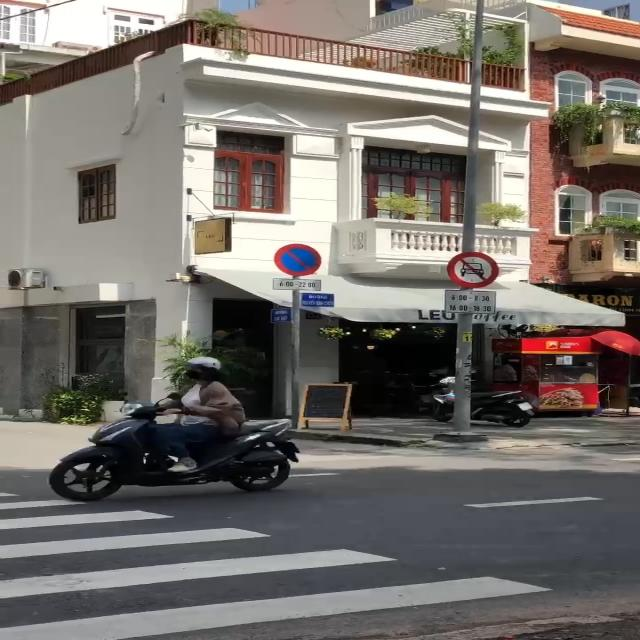Bien bao cam do xe: (272, 242, 325, 278)
Bien bao cam xe oto: (446, 250, 501, 290)
